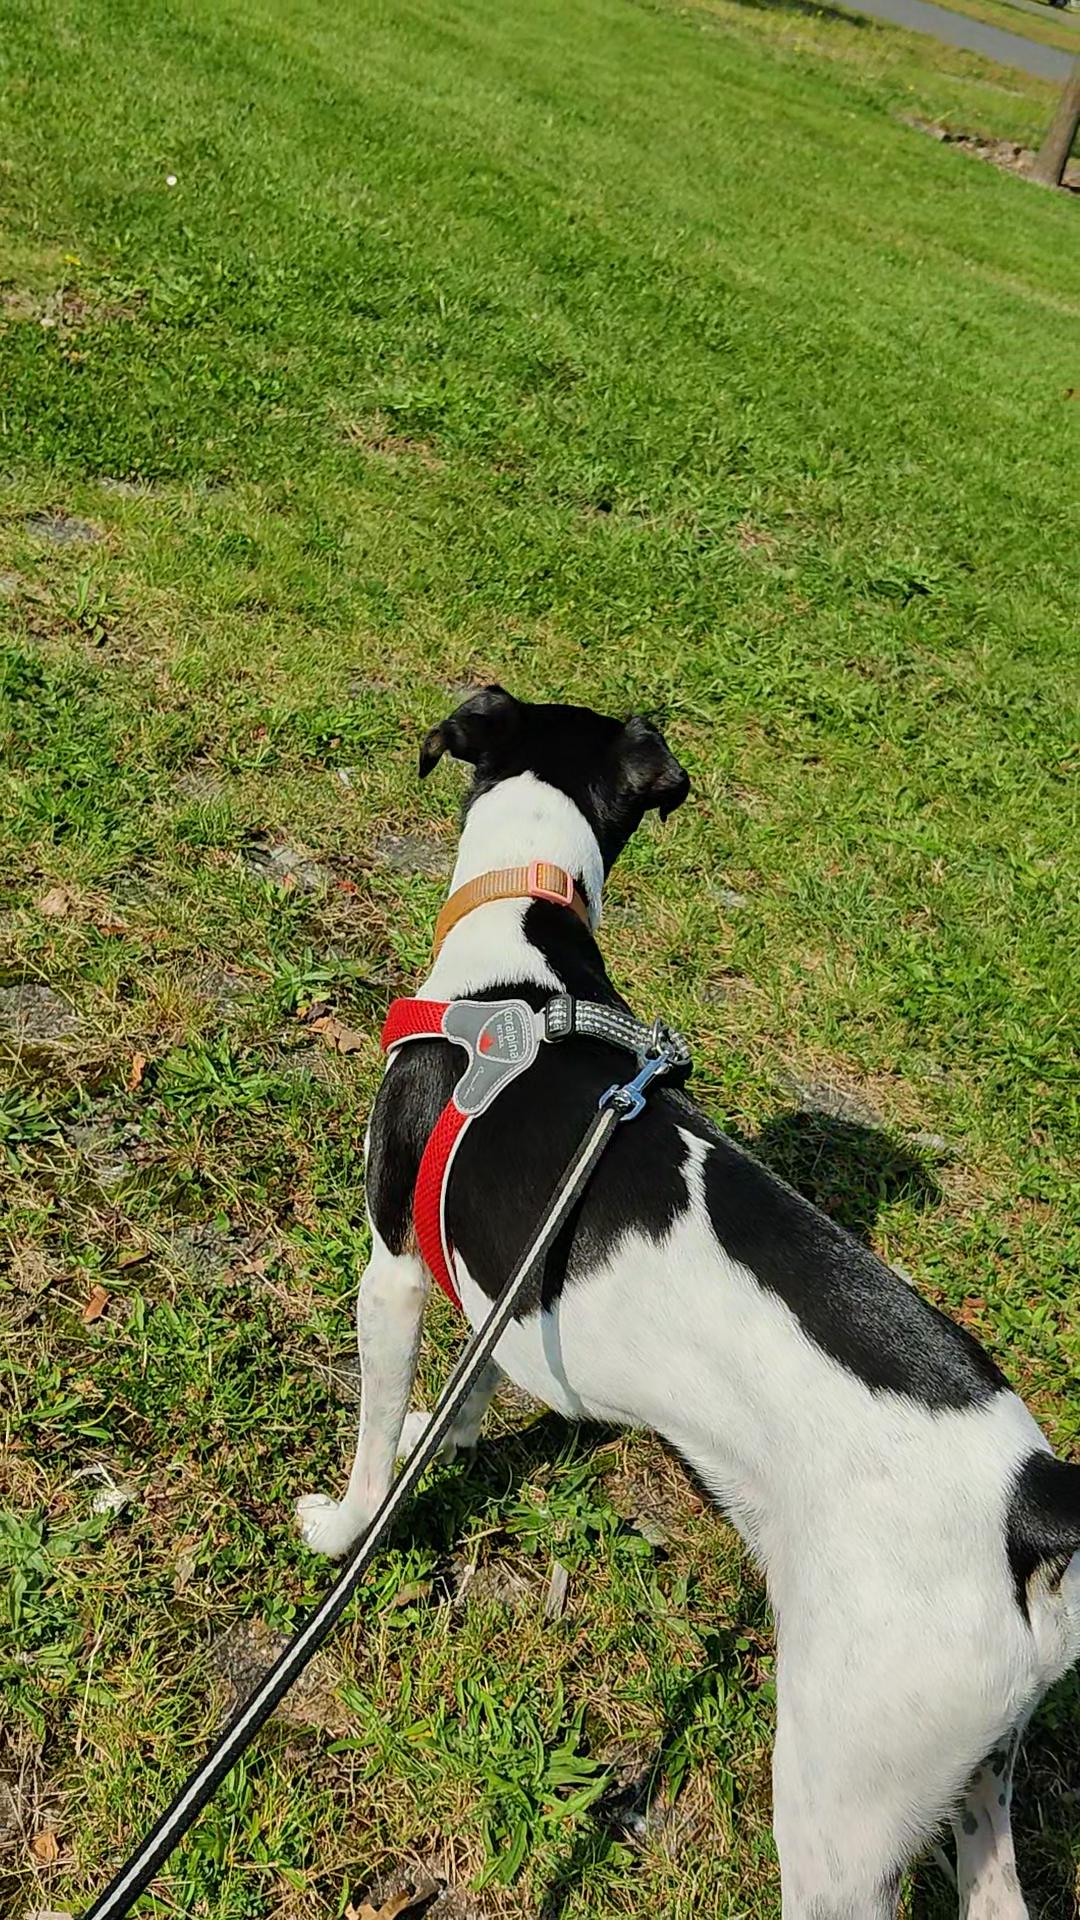Dog: (269, 659, 1079, 1919)
